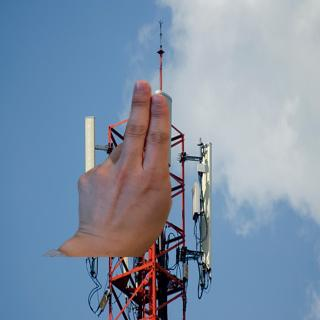DHAVE: (65, 74, 179, 253)
